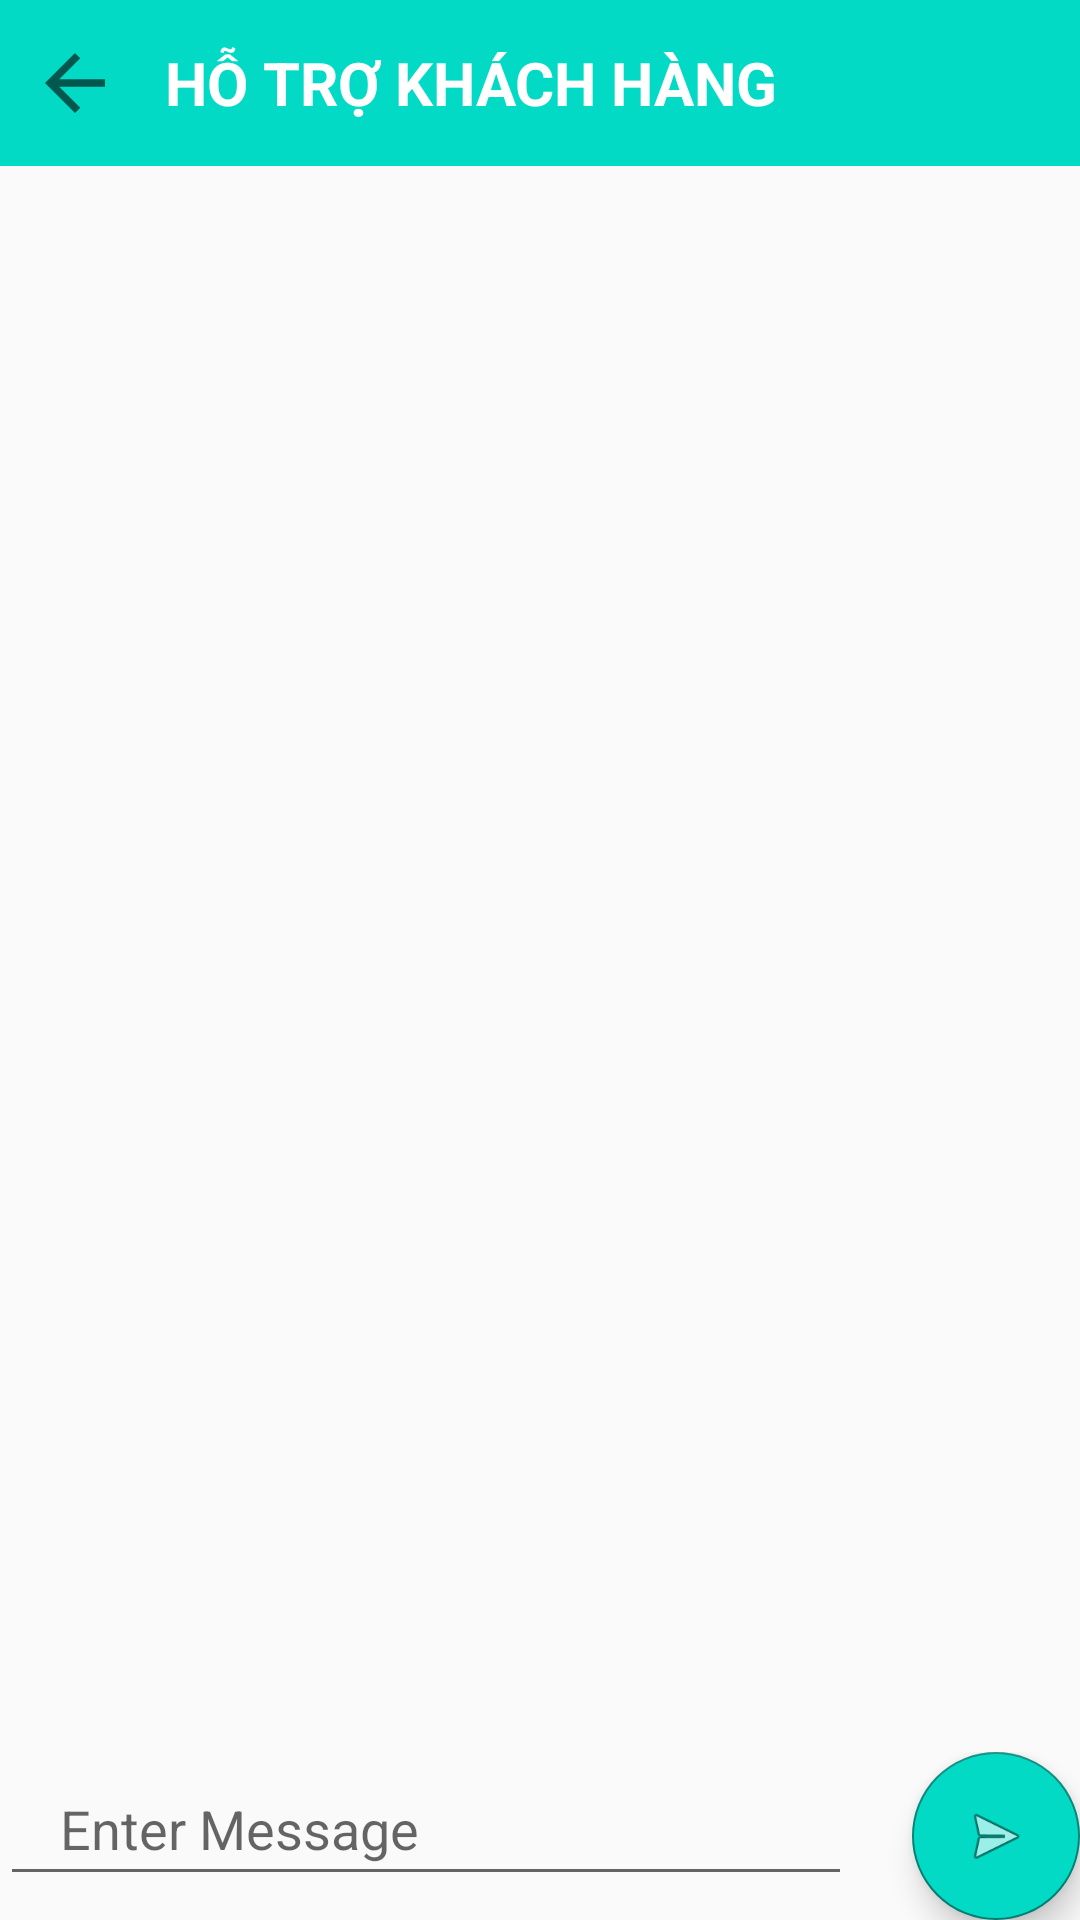

Point at icon controls on the screen. Image size 1080 x 1920, points as point (x, y).
send: point (996, 1836)
